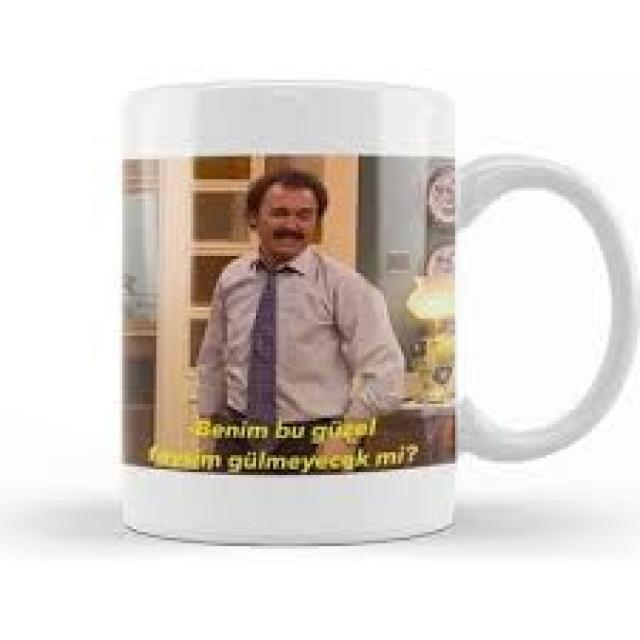taza: (119, 80, 640, 545)
